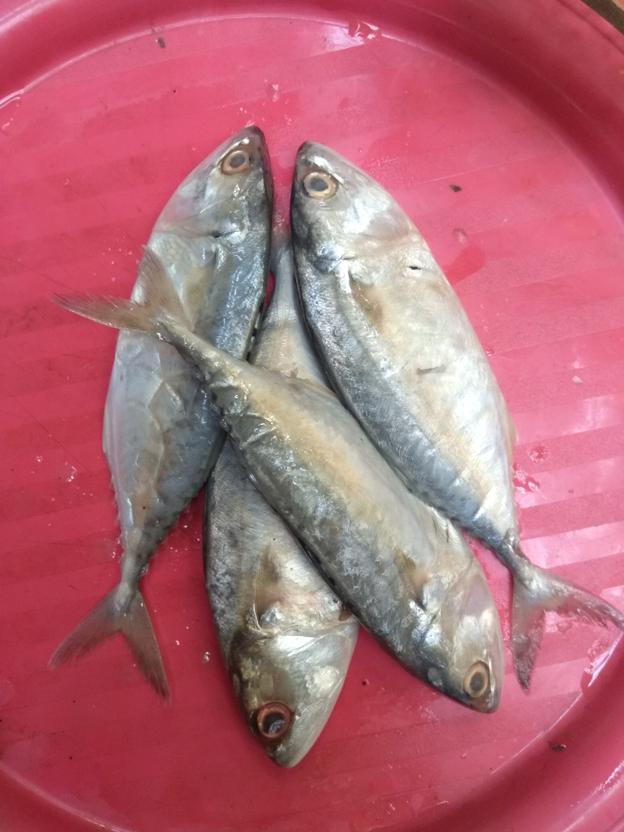Fish head: (224, 627, 355, 770), (289, 139, 402, 273), (418, 556, 507, 717), (155, 124, 278, 236)
Fish tail: (508, 559, 624, 698), (51, 239, 191, 351), (53, 578, 175, 701)
